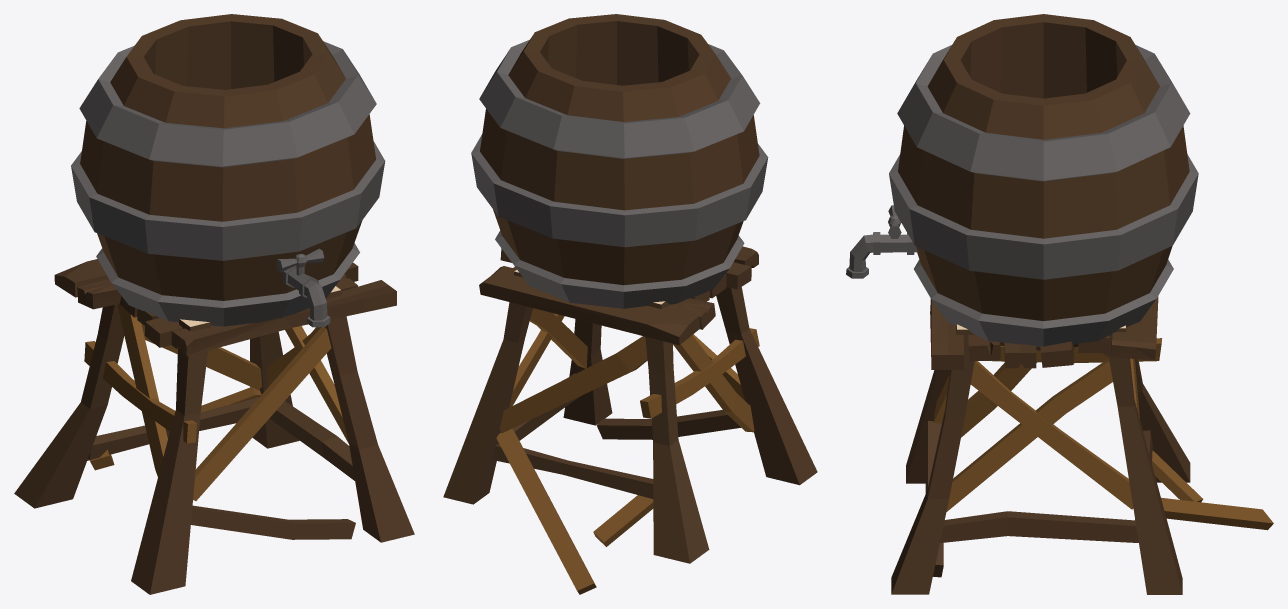
File: Water_storage_3.fbx
3 views of the same model, side by side, from view 1: azimuth 30°, elevation 25°; view 2: azimuth 150°, elevation 25°; view 3: azimuth 270°, elevation 25° (orthographic). The views are drawn at different scales.
Parts seen in each view (by area): view 1: Cube.012; view 2: Cube.012; view 3: Cube.012.
Boxes of the visible parts, box(x1,y1,x2,y2) form: Cube.012: box(14, 14, 414, 594); Cube.012: box(443, 14, 817, 594); Cube.012: box(846, 14, 1273, 594).
Size of the model in its own units: 3.95 by 4.93 by 6.4.
